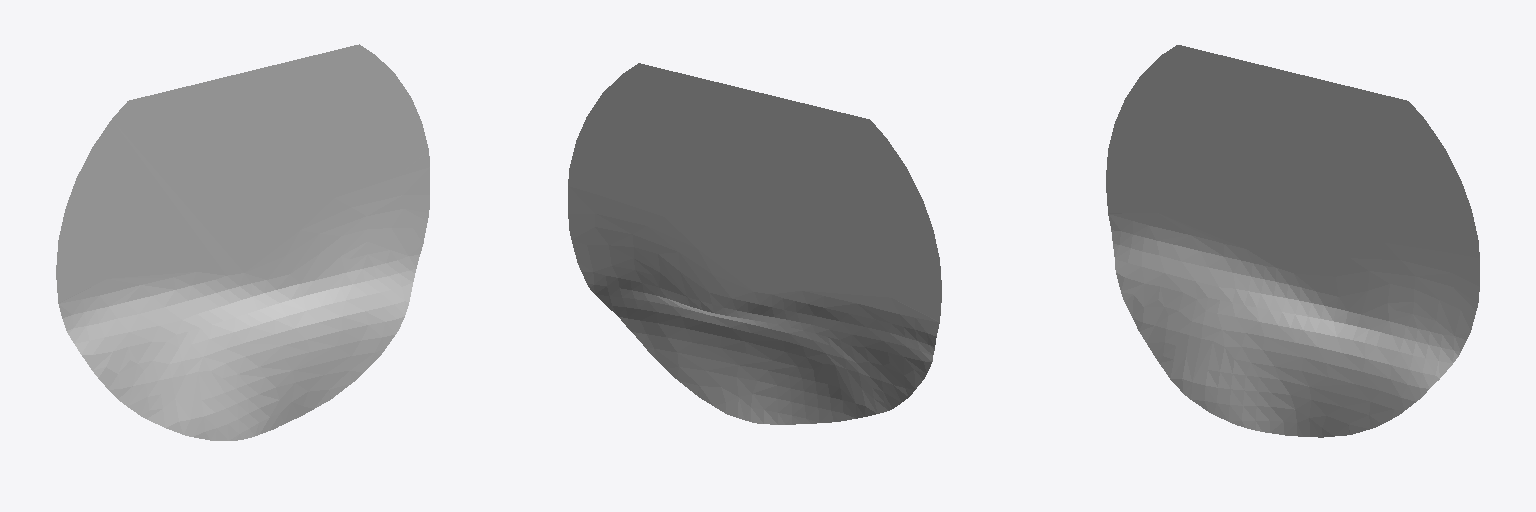
The model's file is hills.obj.
3 views of the same model, side by side, from view 1: azimuth 30°, elevation 25°; view 2: azimuth 150°, elevation 25°; view 3: azimuth 330°, elevation 25° (orthographic).
Size of the model in its own units: 97.93 by 86.96 by 11.64.